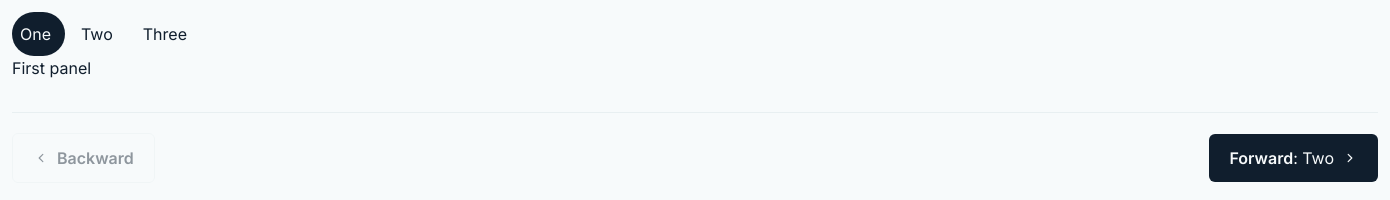
Tabs › walks the tabs with Back and Next when guided, and ends on the finish control
Expected: the button "Backward" is disabled, [12,133,155,183]
Click the button "Forward: Two" at (1294, 158), box [1210,134,1378,182]
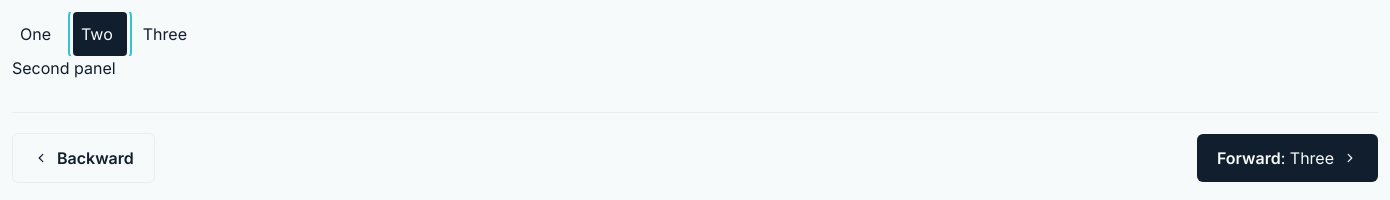
Expected: the panel reads "Second panel", [12,58,116,78]
Expected: the button "Backward" is enabled, [12,133,155,183]
Expected: the button "Forward: Three" is shown
Click the button "Forward: Three" at (1288, 158), box [1197,134,1378,182]
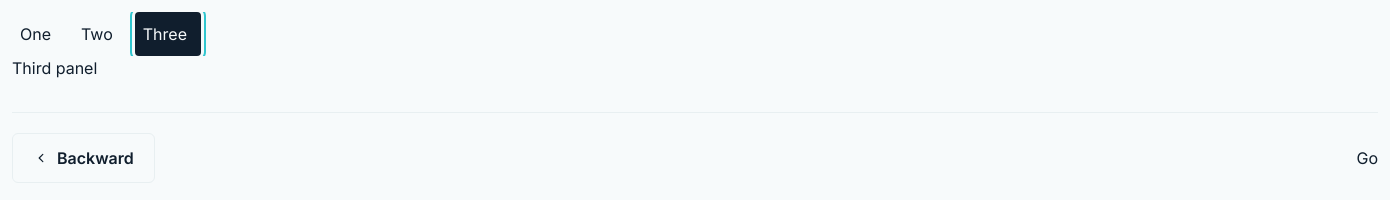
Expected: the panel reads "Third panel", [12,58,97,78]
Expected: the button "Forward" is gone
Click the button "Backward" at (83, 158), box [12,133,155,183]
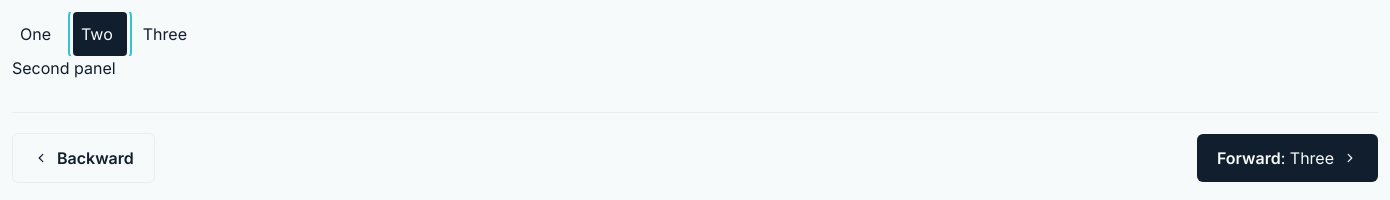
Expected: the panel reads "Second panel", [12,58,116,78]
